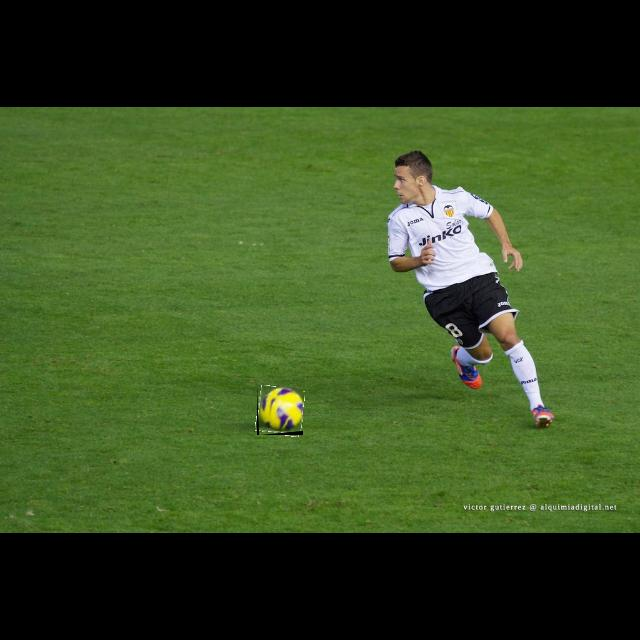Football: (257, 387, 303, 435)
